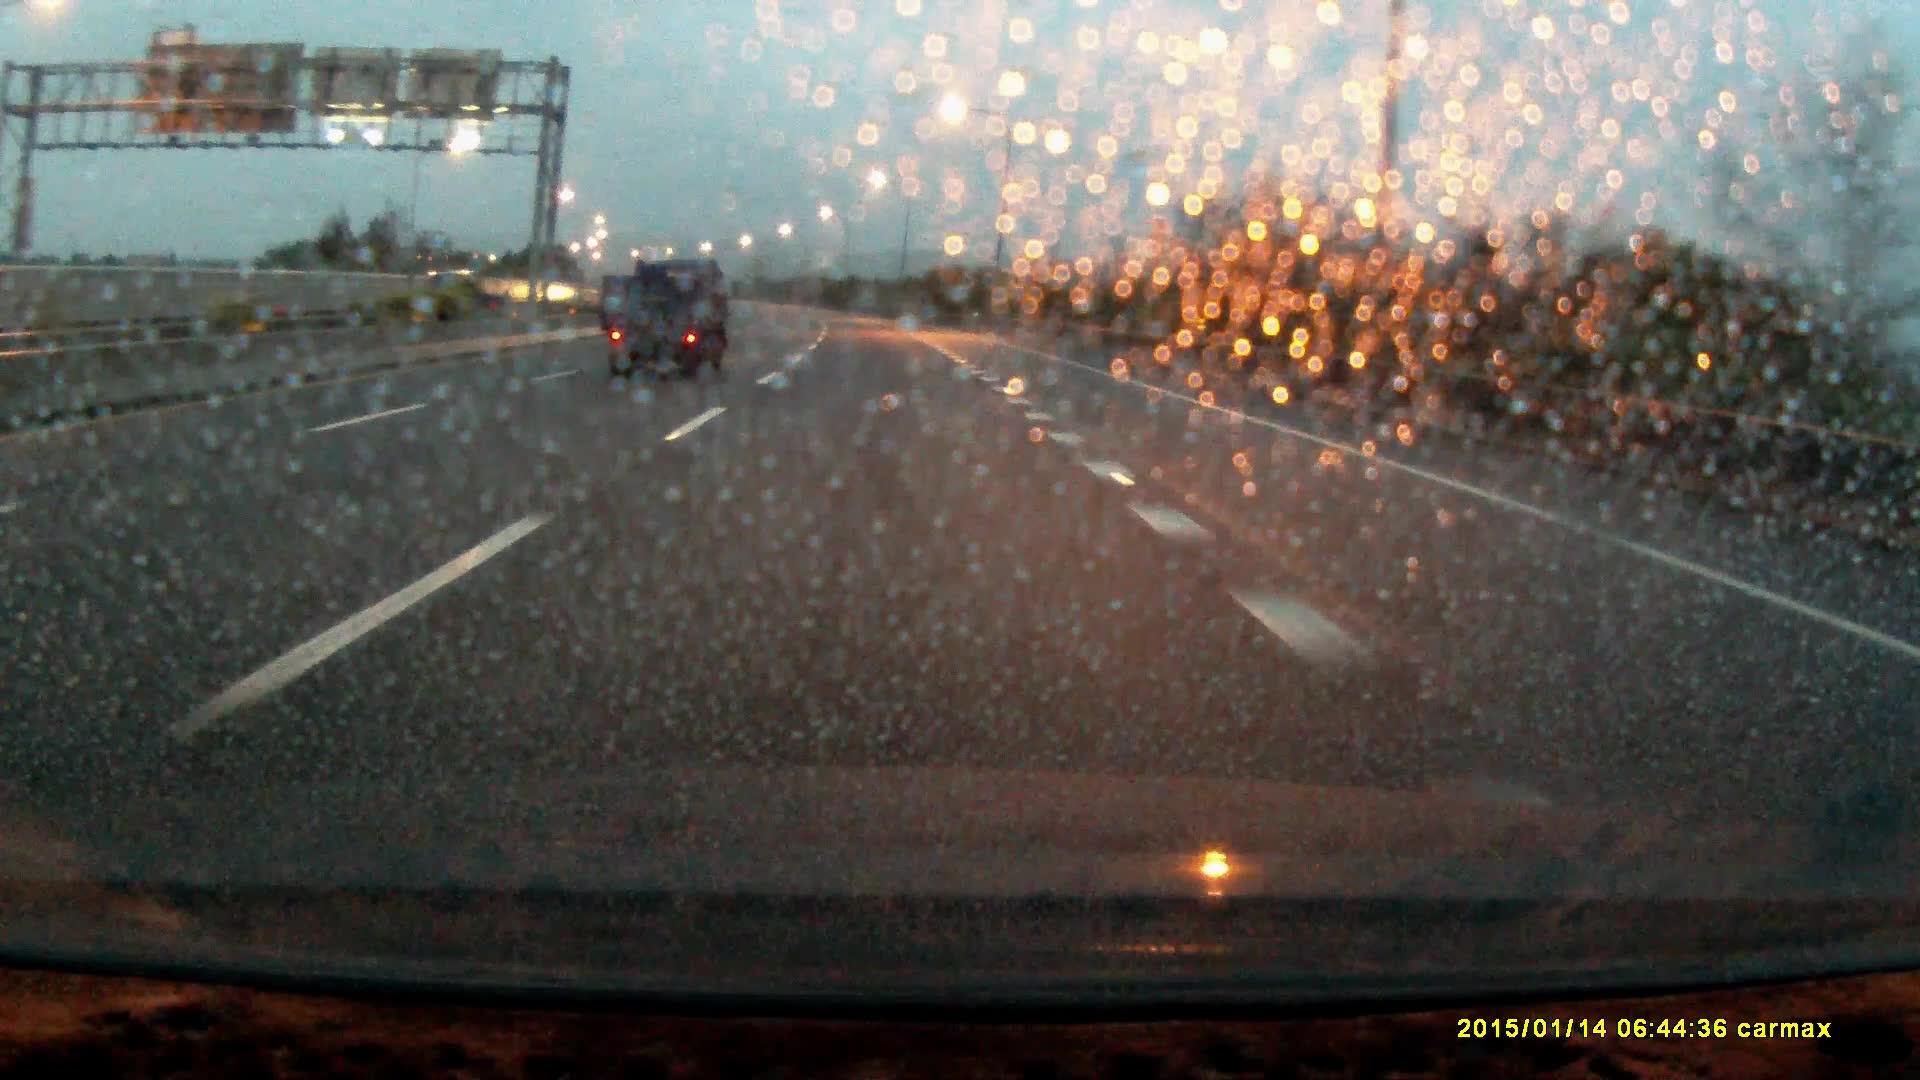vehicle: (607, 257, 733, 378), (427, 266, 525, 314)
